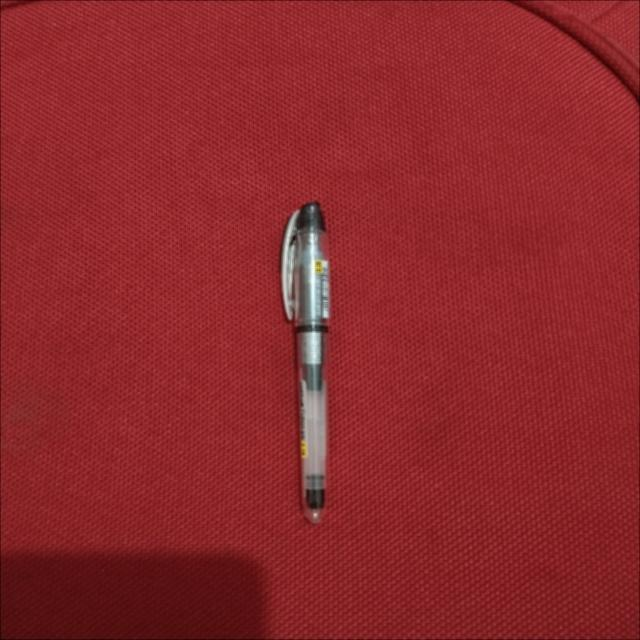pen: (281, 202, 329, 523)
